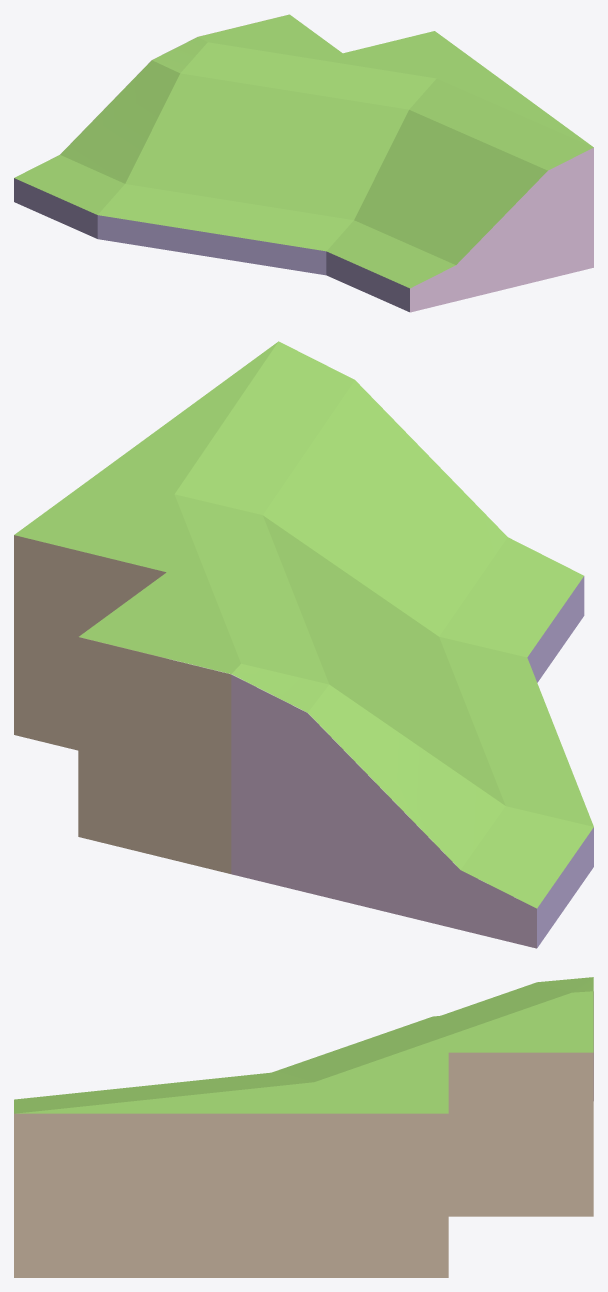
The model's file is Grass_Hill_Sharp_Esse_4x4.fbx.
3 renders of one model, top to bottom at view 1: azimuth 30°, elevation 25°; view 2: azimuth 150°, elevation 25°; view 3: azimuth 270°, elevation 25°, orthographic. The views are drawn at different scales.
Parts seen in each view (by area): view 1: Grass_Hill_Sharp_Esse_4x4; view 2: Grass_Hill_Sharp_Esse_4x4; view 3: Grass_Hill_Sharp_Esse_4x4.
Part boxes in pixels (<box>): Grass_Hill_Sharp_Esse_4x4: <box>14,14,593,312</box>; Grass_Hill_Sharp_Esse_4x4: <box>14,341,593,948</box>; Grass_Hill_Sharp_Esse_4x4: <box>14,977,593,1277</box>.
Bounding box in the file's own units: 400 × 125 × 400.
